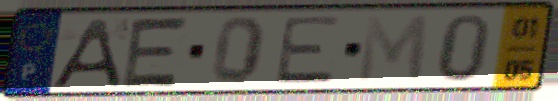0: (211, 13, 270, 88), (434, 12, 493, 84)
A: (46, 16, 124, 90)
E: (117, 14, 194, 90), (271, 14, 346, 87)
M: (354, 12, 432, 86)
